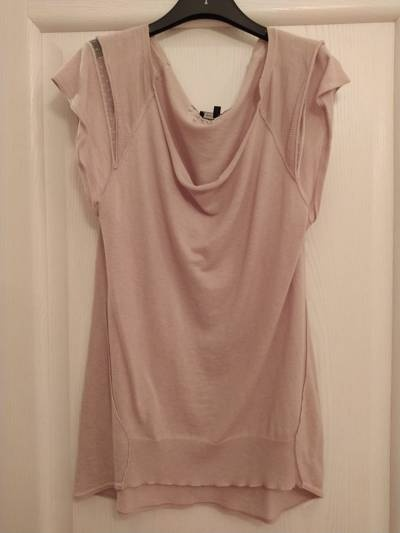Dress: (57, 14, 366, 516)
